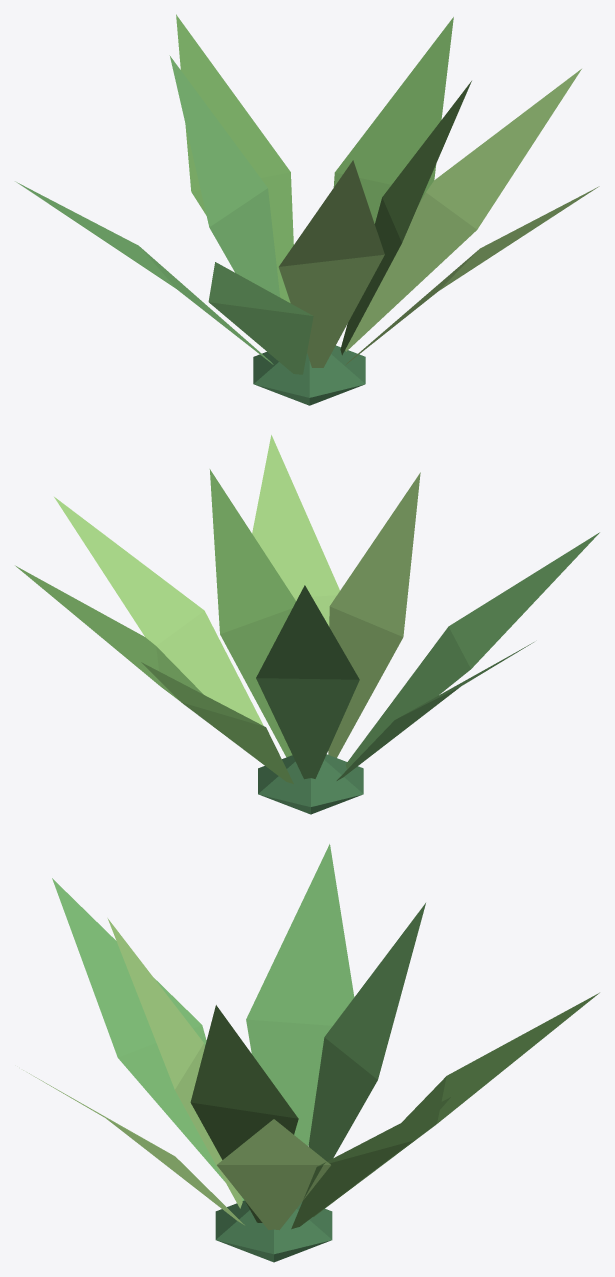
Rendered from deco_aloe_leaf.obj.
3 renders of one model, top to bottom at view 1: azimuth 30°, elevation 25°; view 2: azimuth 150°, elevation 25°; view 3: azimuth 270°, elevation 25°, orthographic. The views are drawn at different scales.
Parts seen in each view (by area): view 1: deco_aloe_leaf; view 2: deco_aloe_leaf; view 3: deco_aloe_leaf.
Boxes of the visible parts, <box> form: deco_aloe_leaf: <box>15,14,599,405</box>; deco_aloe_leaf: <box>15,435,599,814</box>; deco_aloe_leaf: <box>23,844,599,1262</box>.
Size of the model in its own units: 0.0482 by 0.0267 by 0.0435.
1 material, 1 textured.
